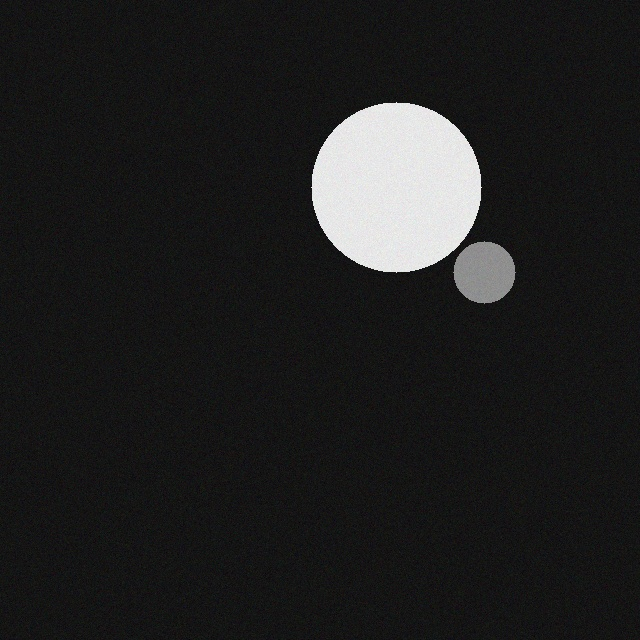circle: (296, 113, 466, 283), (438, 252, 500, 314)
